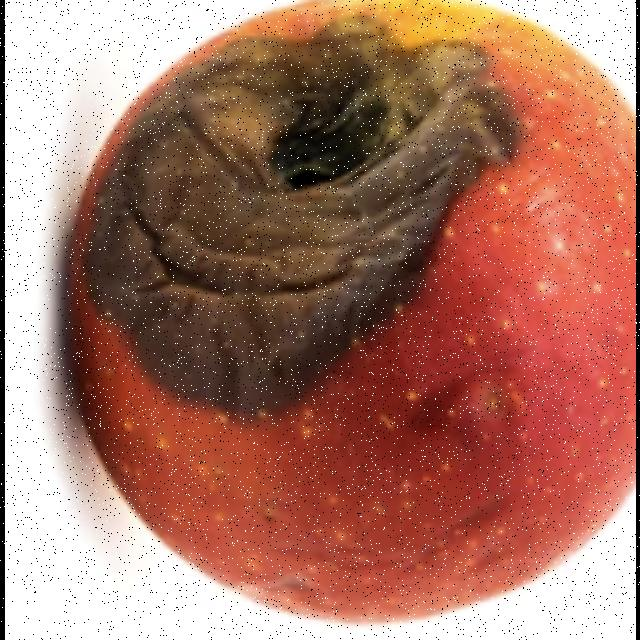Apel Tidak Segar: (65, 0, 636, 622)
